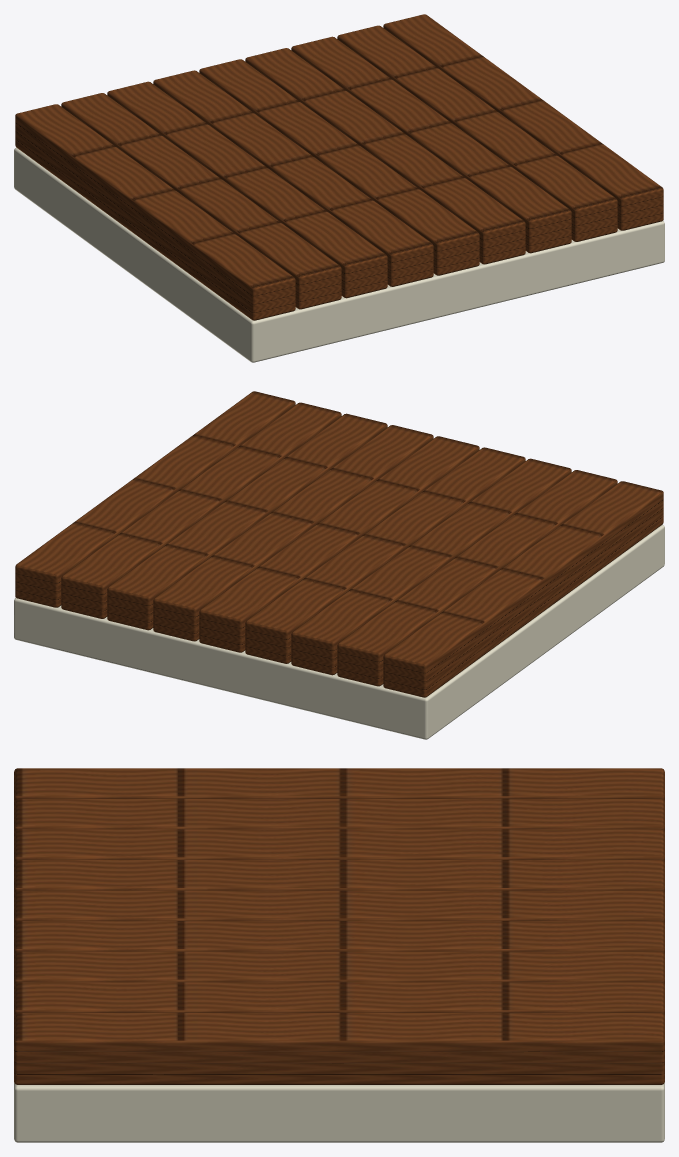
File: modular-survival-base-builder-continuous-footing-51c67411__24136.glb
3 views of the same model, one above another, from view 1: azimuth 30°, elevation 25°; view 2: azimuth 150°, elevation 25°; view 3: azimuth 270°, elevation 25° (orthographic). The views are drawn at different scales.
Parts seen in each view (by area): view 1: continuous-footing; view 2: continuous-footing; view 3: continuous-footing.
Part boxes in pixels (left/top/right/bottom): continuous-footing: left=14, top=14, right=664, bottom=362; continuous-footing: left=14, top=391, right=664, bottom=739; continuous-footing: left=14, top=768, right=664, bottom=1142.
Size of the model in its own units: 2 by 0.3499 by 2.
2 materials, 1 textured.
